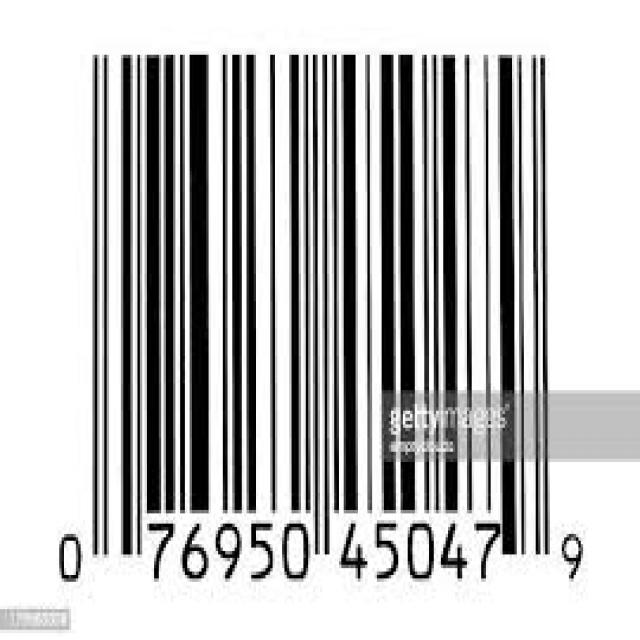Barkod: (12, 21, 606, 600)
